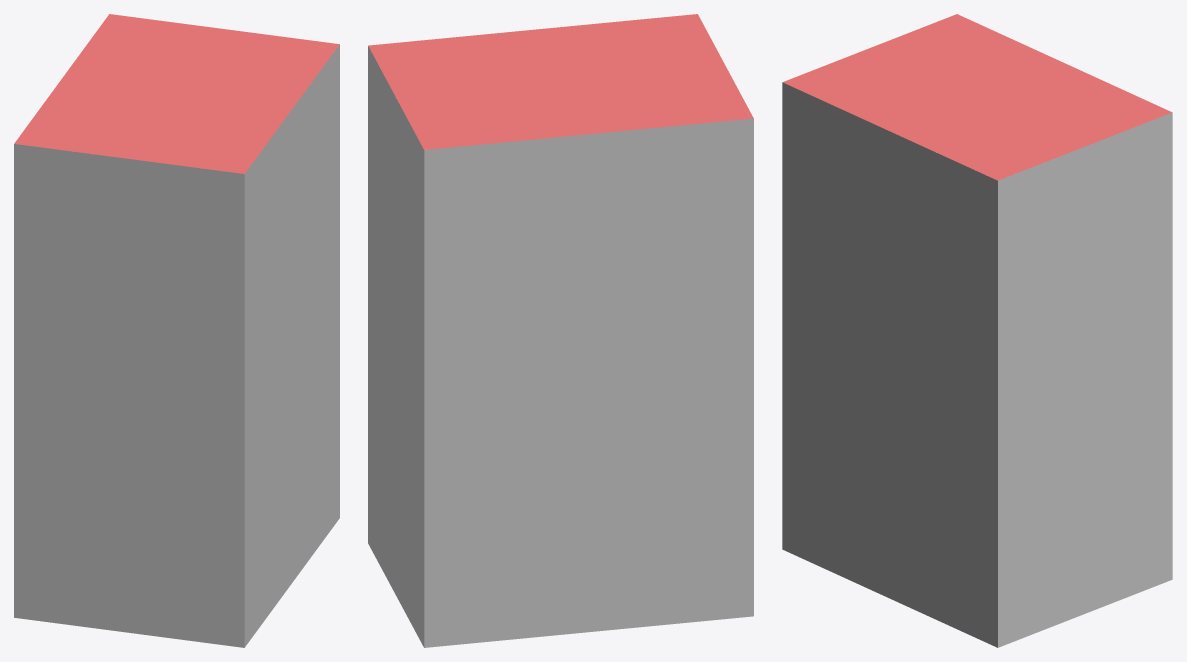
3 renders of one model, left to right at view 1: azimuth 30°, elevation 25°; view 2: azimuth 150°, elevation 25°; view 3: azimuth 270°, elevation 25°, orthographic. The views are drawn at different scales.
Parts seen in each view (by area): view 1: Z_UP; view 2: Z_UP; view 3: Z_UP.
Boxes of the visible parts, x1,y1,x2,y2 form: Z_UP: (14, 14, 339, 647); Z_UP: (368, 14, 753, 647); Z_UP: (782, 14, 1172, 647).
Size of the model in its own units: 9.95 by 13 by 9.84.
